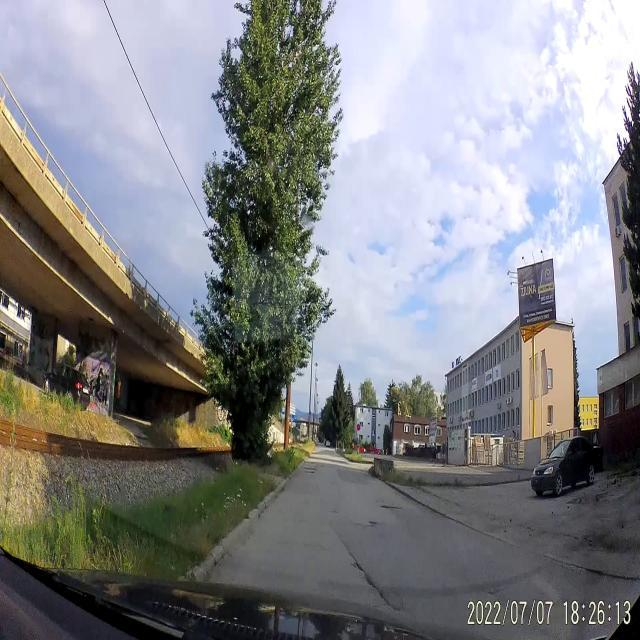Pothole: (352, 556, 396, 620), (358, 516, 382, 534), (380, 500, 403, 514), (300, 464, 318, 476)
